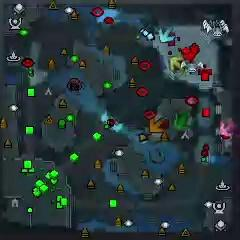x1: (219, 120, 236, 138)
x2: (170, 56, 184, 72)
x3: (157, 28, 176, 42)
x4: (173, 111, 189, 131)
x5: (149, 117, 166, 133)
